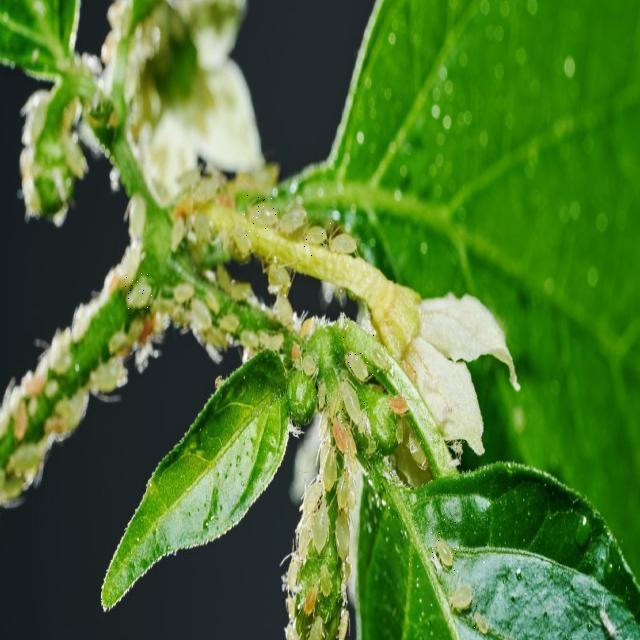aphid: (302, 208, 333, 282), (446, 579, 490, 631), (338, 331, 374, 386), (337, 371, 371, 427), (430, 514, 460, 575), (244, 186, 276, 239), (328, 222, 362, 269), (125, 270, 153, 316)
